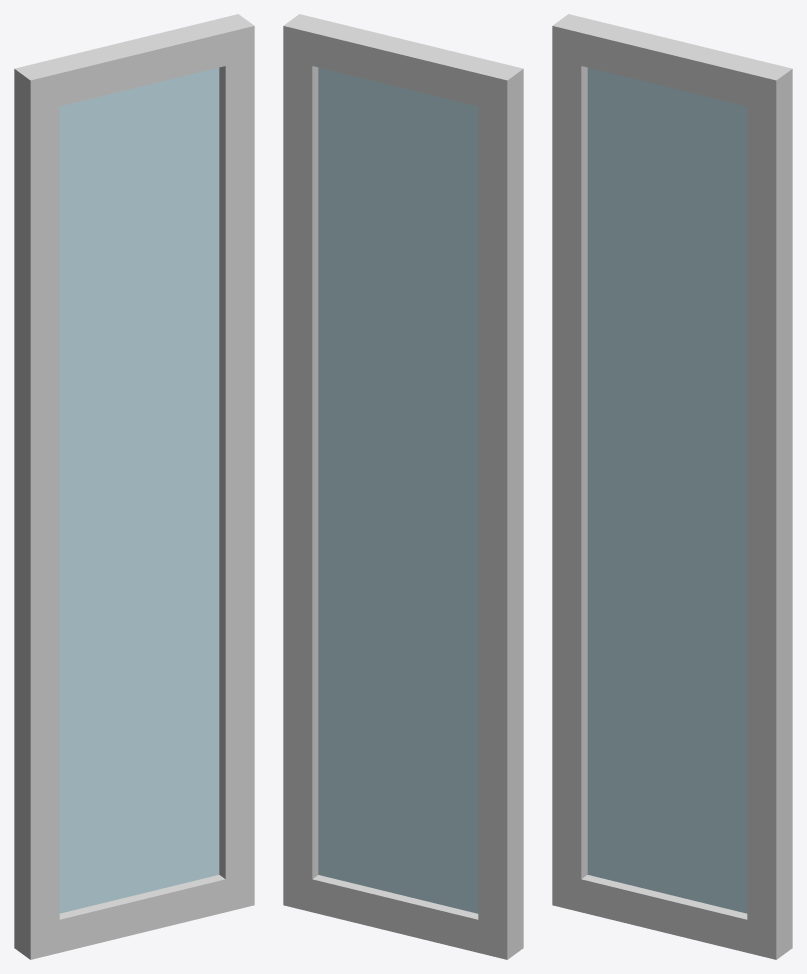
Rendered from thin_window.glb.
3 views of the same model, side by side, from view 1: azimuth 30°, elevation 25°; view 2: azimuth 150°, elevation 25°; view 3: azimuth 330°, elevation 25° (orthographic).
Parts seen in each view (by area): view 1: right_side_glass_half_panel, Cube; view 2: right_side_glass_half_panel, Cube; view 3: right_side_glass_half_panel, Cube.
Part boxes in pixels (left/top/right/bottom): right_side_glass_half_panel: left=59, top=67, right=219, bottom=913; Cube: left=14, top=14, right=254, bottom=959; right_side_glass_half_panel: left=318, top=67, right=478, bottom=913; Cube: left=283, top=14, right=523, bottom=959; right_side_glass_half_panel: left=587, top=67, right=747, bottom=913; Cube: left=552, top=14, right=792, bottom=959.
Bounding box in the file's own units: 0.4 × 1.5 × 0.05.
